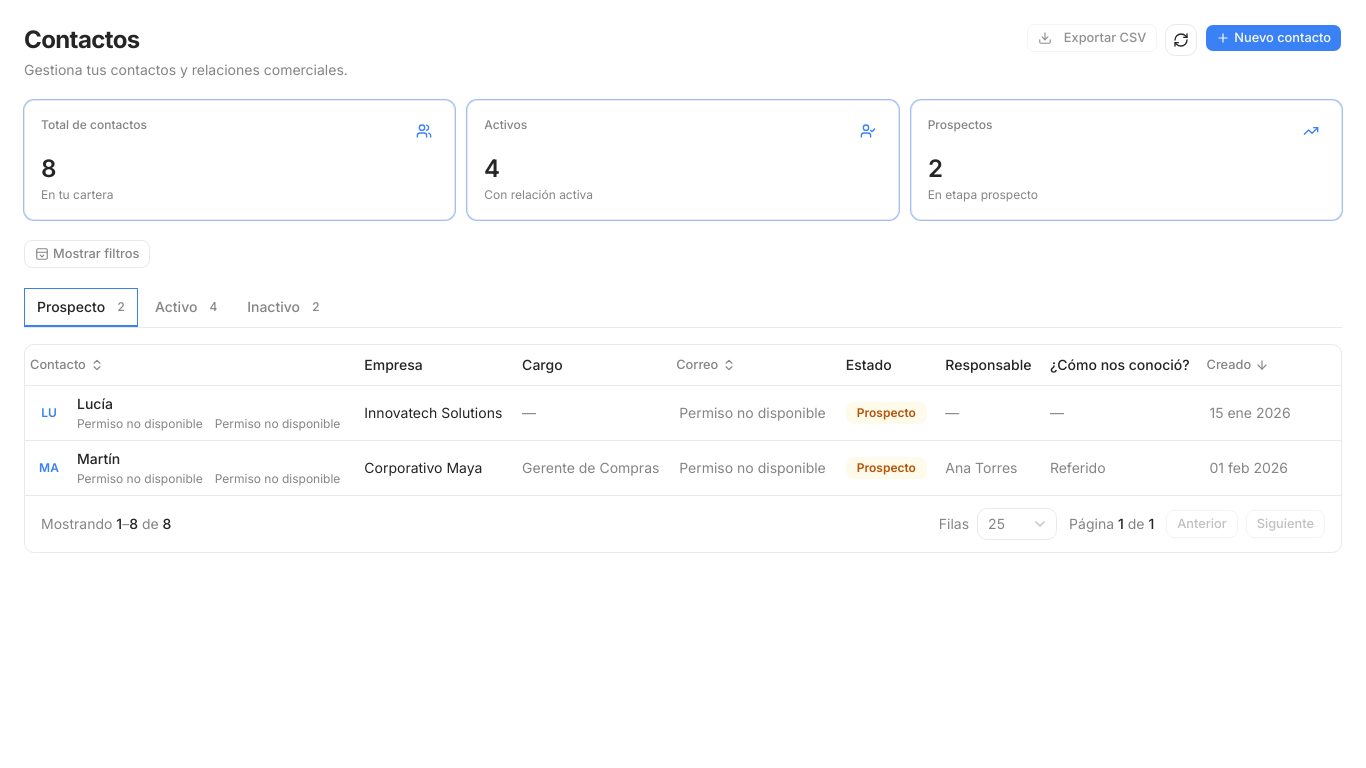
Test case: ContactosPage › el tab state se sincroniza con ?tab= en la URL
Expected: the link "Lucía" is shown, [77,394,113,412]
Cambiar al tab INACTIVO
Step 1. Click the tab "Inactivo 2" → (284, 308), box [234,288,333,327]
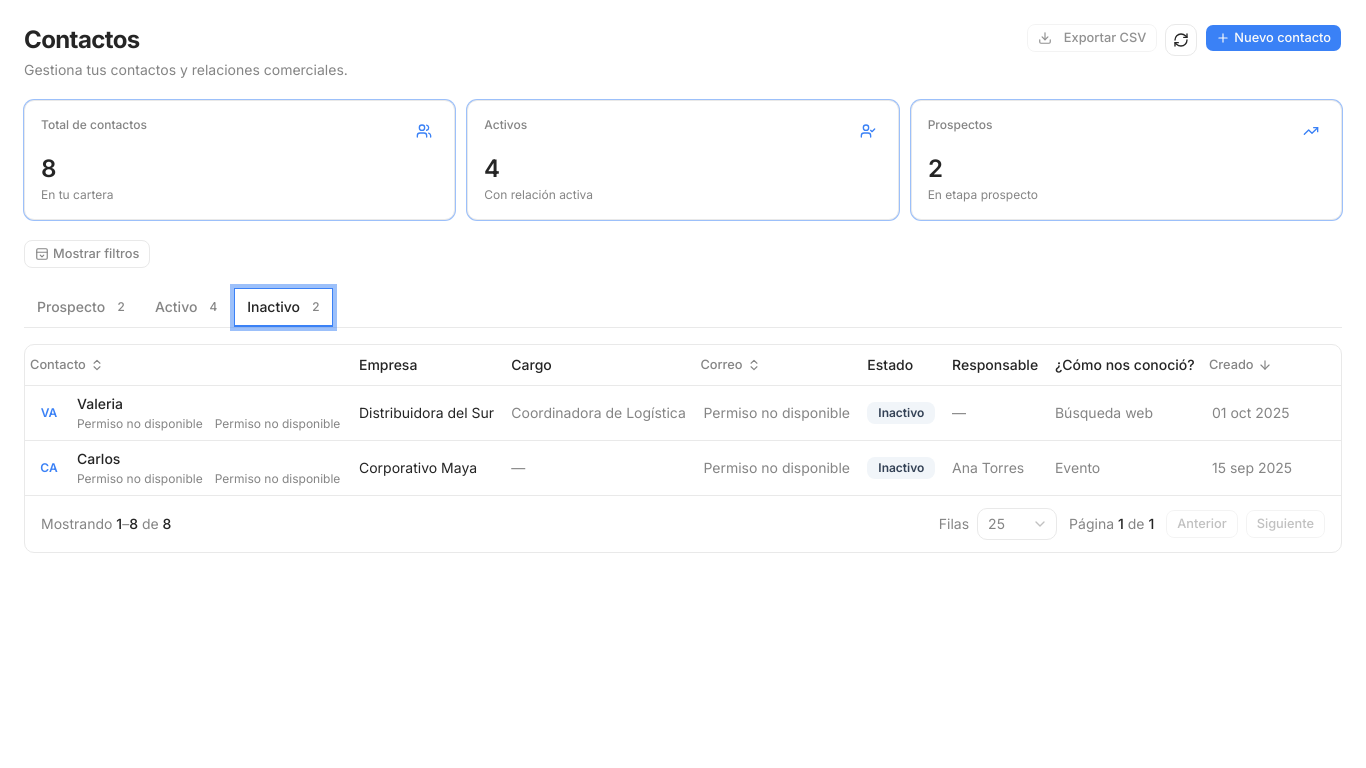
Now the link "Valeria" is shown, box [77,394,123,412]
